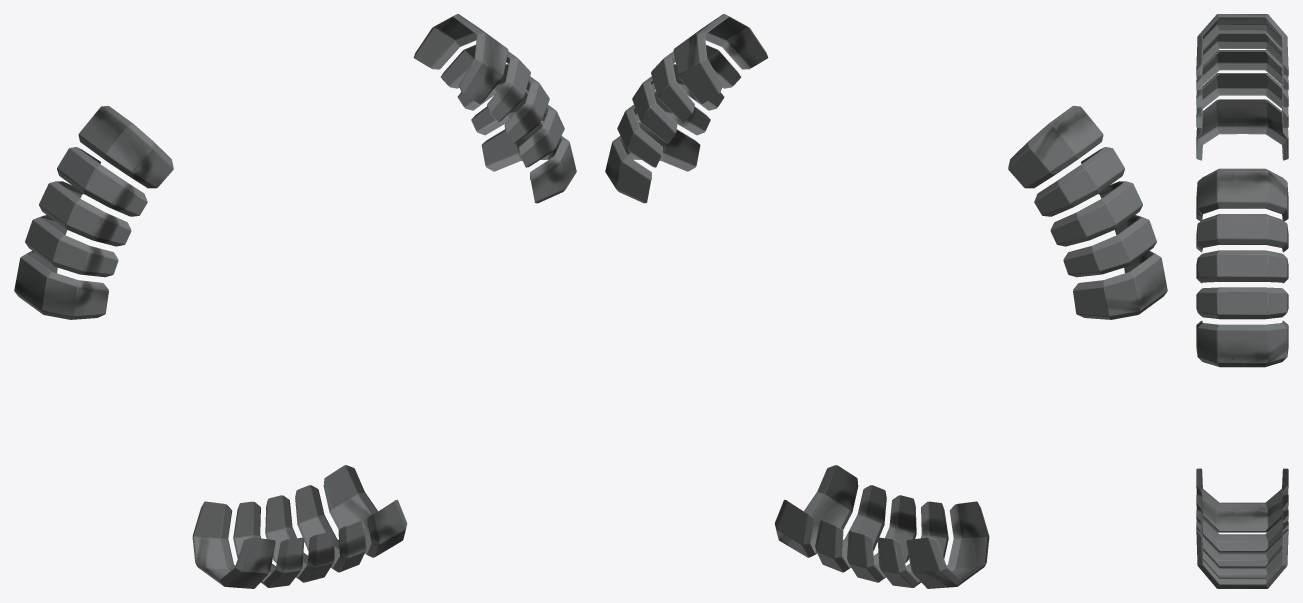
File: LightingPart.fbx
3 renders of one model, left to right at view 1: azimuth 30°, elevation 25°; view 2: azimuth 150°, elevation 25°; view 3: azimuth 270°, elevation 25°, orthographic. The views are drawn at different scales.
Parts seen in each view (by area): view 1: Cylinder.063; view 2: Cylinder.063; view 3: Cylinder.063.
Boxes of the visible parts, box(x1,y1,x2,y2) form: Cylinder.063: box(14, 14, 576, 588); Cylinder.063: box(605, 14, 1167, 588); Cylinder.063: box(1196, 14, 1288, 588).
Bounding box in the file's own units: 3056 × 2754 × 488.
